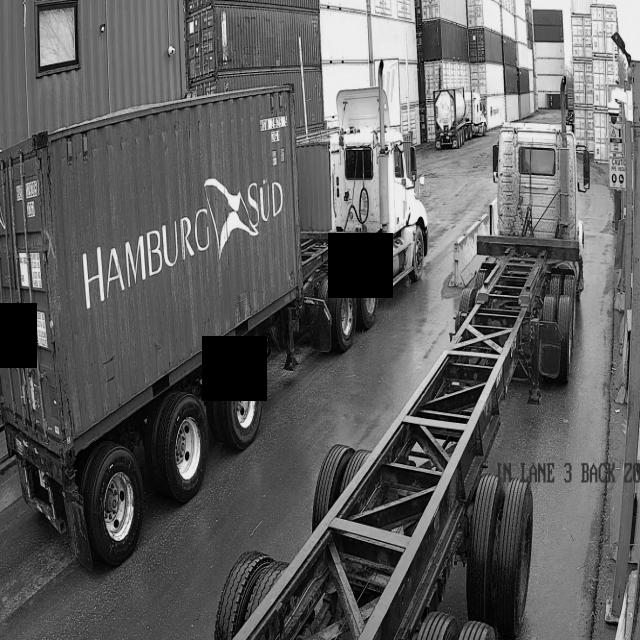container_company_logo: (75, 161, 286, 322)
truck_with_container: (0, 62, 428, 569)
truck_without_container: (232, 107, 590, 640)
